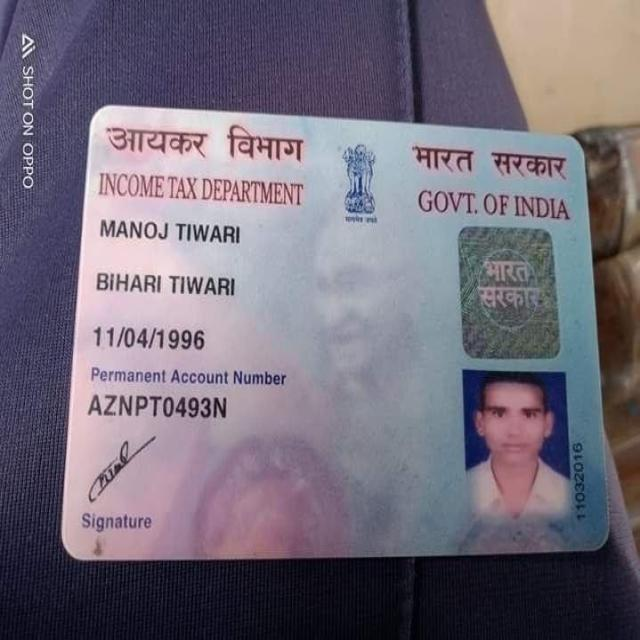pan_card: (62, 106, 605, 551)
